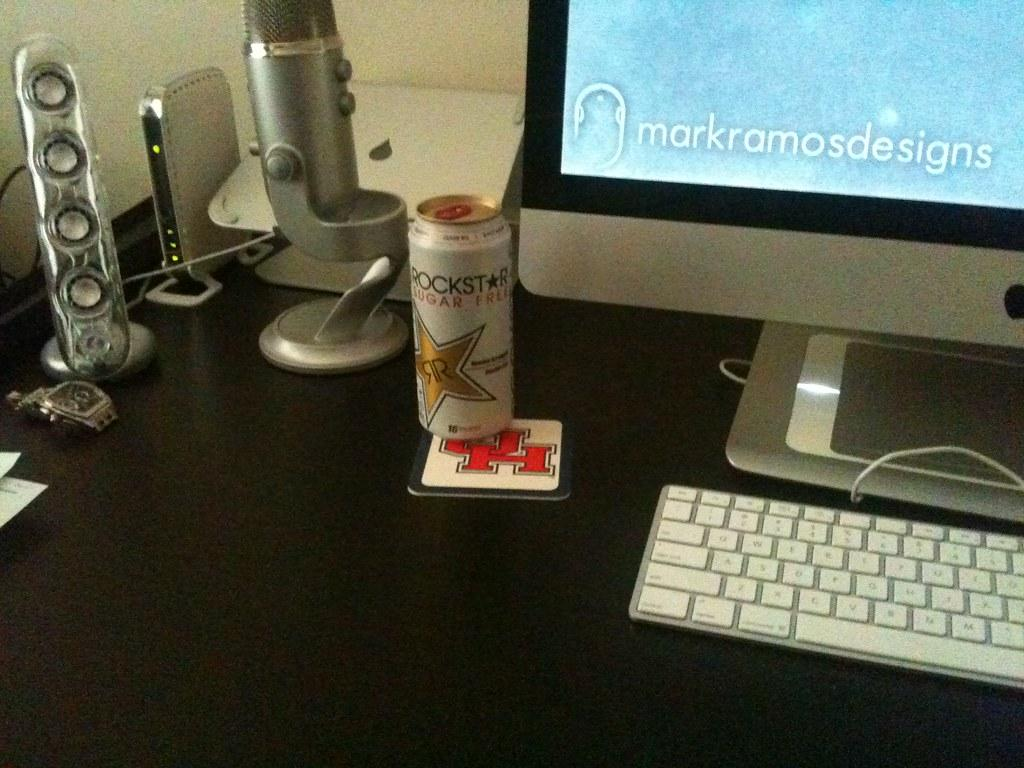computer: (517, 1, 1024, 524)
